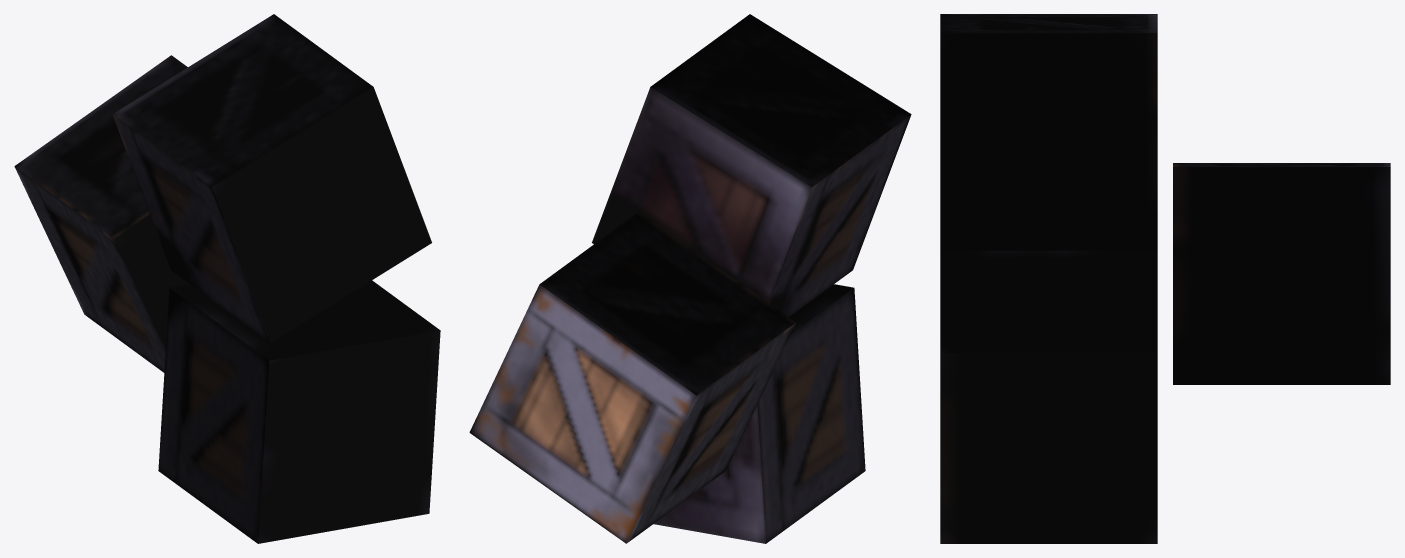
The model's file is ex_CrateSimple.obj.
3 views of the same model, side by side, from view 1: azimuth 30°, elevation 25°; view 2: azimuth 150°, elevation 25°; view 3: azimuth 270°, elevation 25° (orthographic). The views are drawn at different scales.
Parts seen in each view (by area): view 1: CrateLoRes_Cube.015; view 2: CrateLoRes_Cube.015; view 3: CrateLoRes_Cube.015.
Boxes of the visible parts, x1,y1,x2,y2 form: CrateLoRes_Cube.015: (14,14,440,543); CrateLoRes_Cube.015: (469,14,911,543); CrateLoRes_Cube.015: (940,14,1390,543).
Bounding box in the file's own units: 49.82 × 88.91 × 75.52.
1 material, 1 textured.
